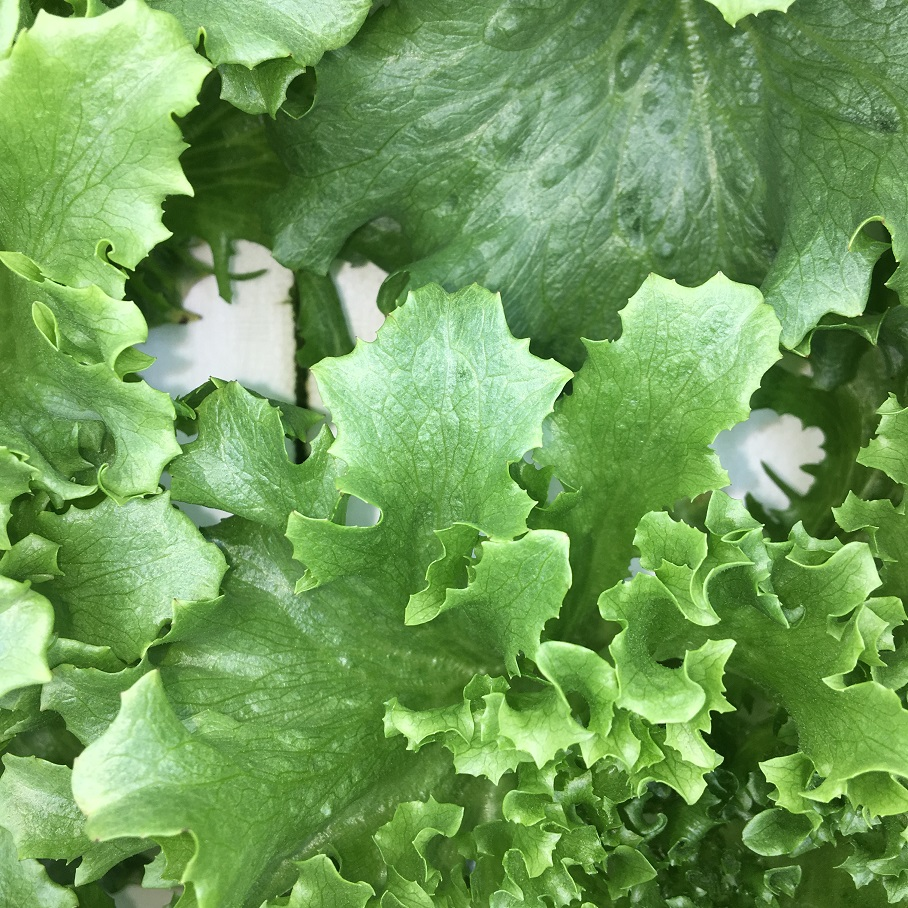tipburn: (832, 222, 858, 263), (279, 45, 312, 70), (868, 202, 895, 232), (793, 343, 822, 368), (378, 304, 404, 326)
